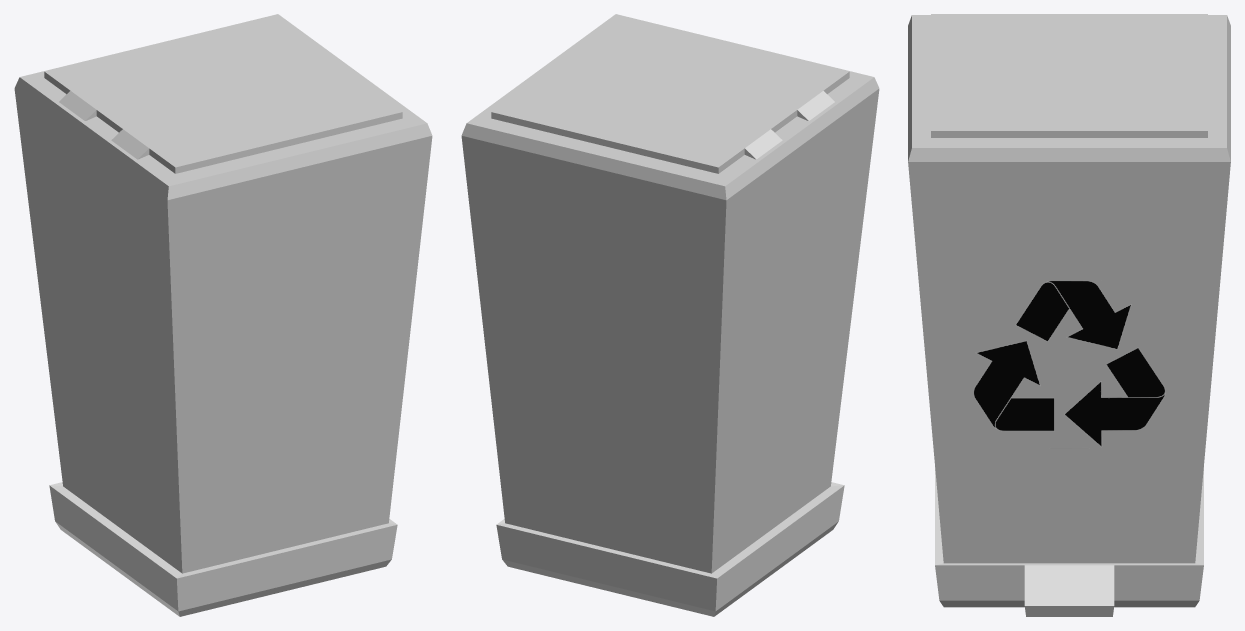
Rendered from Recyclebin_Clean.fbx.
3 renders of one model, left to right at view 1: azimuth 30°, elevation 25°; view 2: azimuth 150°, elevation 25°; view 3: azimuth 270°, elevation 25°, orthographic. The views are drawn at different scales.
Visible parts, largest first — view 1: RecycleBin_Clean; view 2: RecycleBin_Clean; view 3: RecycleBin_Clean.
Boxes of the visible parts, box(x1,y1,x2,y2) form: RecycleBin_Clean: box(14, 14, 432, 616); RecycleBin_Clean: box(461, 14, 879, 616); RecycleBin_Clean: box(908, 14, 1230, 616).
Size of the model in its own units: 206 by 337 by 205.
